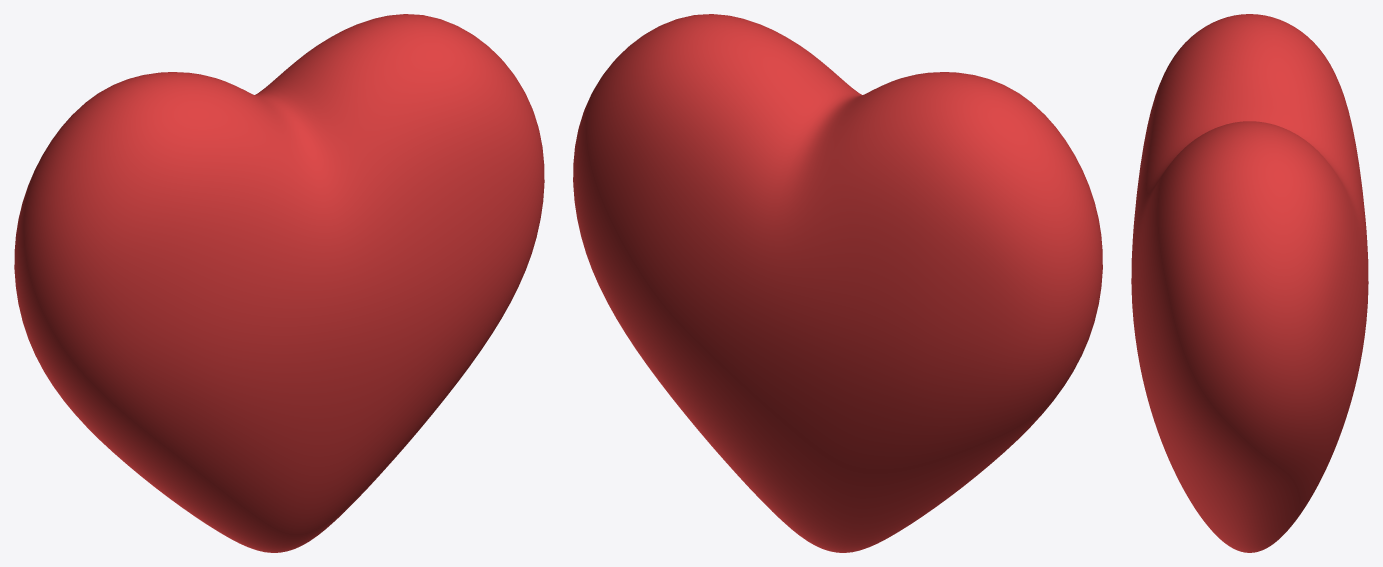
The model's file is Heart1.glb.
3 views of the same model, side by side, from view 1: azimuth 30°, elevation 25°; view 2: azimuth 150°, elevation 25°; view 3: azimuth 270°, elevation 25° (orthographic). The views are drawn at different scales.
Visible parts, largest first — view 1: 12190_Heart_v1_L3; view 2: 12190_Heart_v1_L3; view 3: 12190_Heart_v1_L3.
Boxes of the visible parts, left/top/right/bottom form: 12190_Heart_v1_L3: left=14, top=14, right=544, bottom=552; 12190_Heart_v1_L3: left=573, top=14, right=1102, bottom=552; 12190_Heart_v1_L3: left=1131, top=14, right=1368, bottom=552.
Size of the model in its own units: 21.25 by 19.91 by 9.14.
